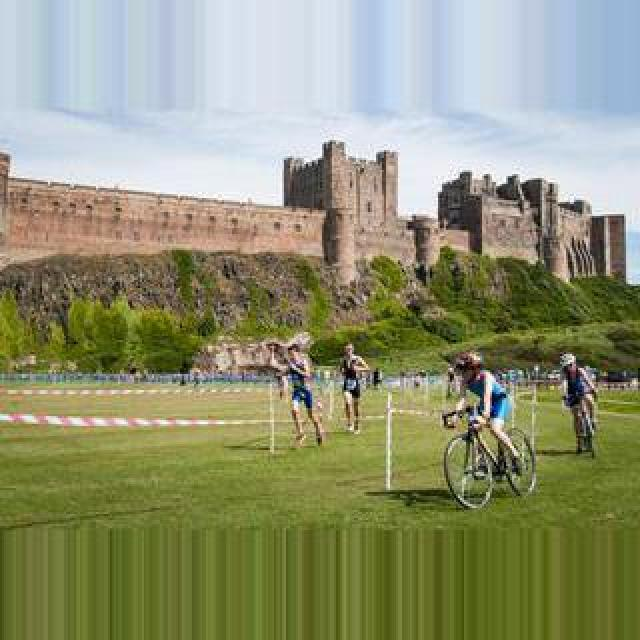MC-Bike: (448, 356, 520, 478), (286, 340, 328, 450), (558, 354, 598, 448), (338, 342, 368, 432)
Person: (443, 408, 539, 510), (574, 401, 598, 457)
